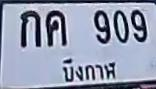0: (113, 9, 128, 42)
9: (93, 9, 110, 43), (130, 9, 146, 41)
A01: (20, 10, 40, 47)
A04: (46, 10, 66, 46)
BKN: (56, 55, 120, 82)
